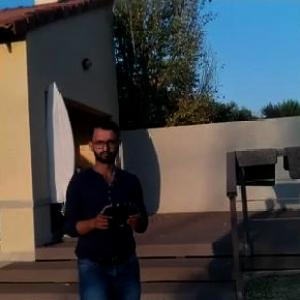follow: (61, 114, 154, 299)
